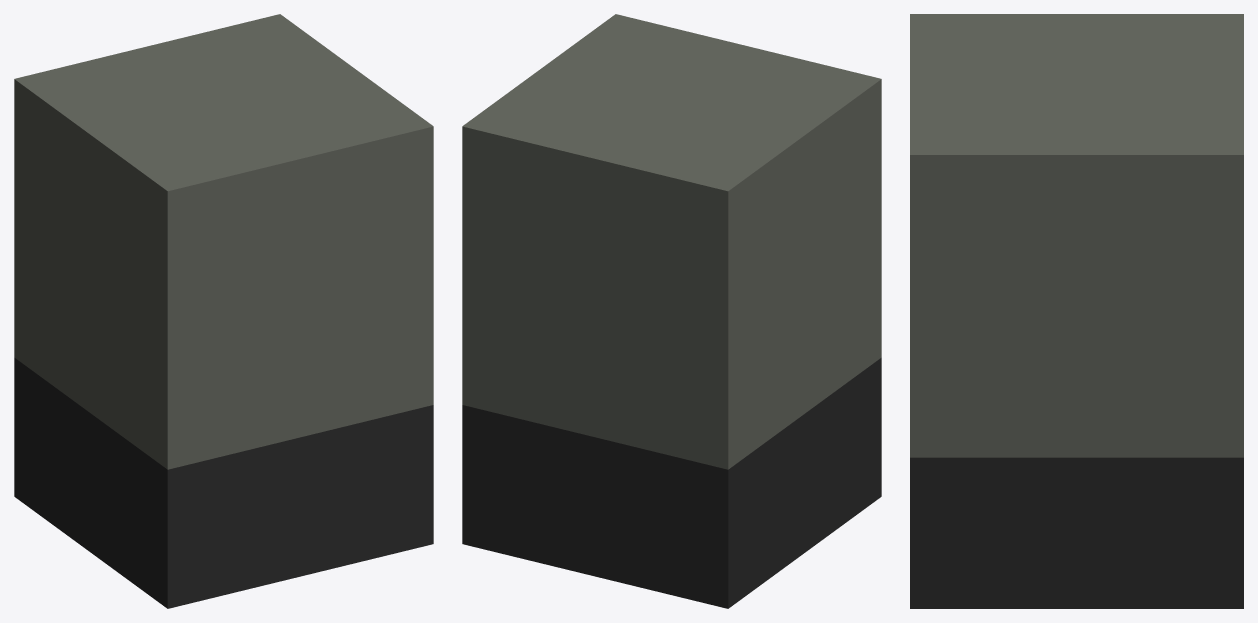
Rendered from Beer Knight-5.obj.
3 renders of one model, left to right at view 1: azimuth 30°, elevation 25°; view 2: azimuth 150°, elevation 25°; view 3: azimuth 270°, elevation 25°, orthographic. The views are drawn at different scales.
Size of the model in its own units: 0.2 by 0.3 by 0.2.
1 material, 1 textured.
